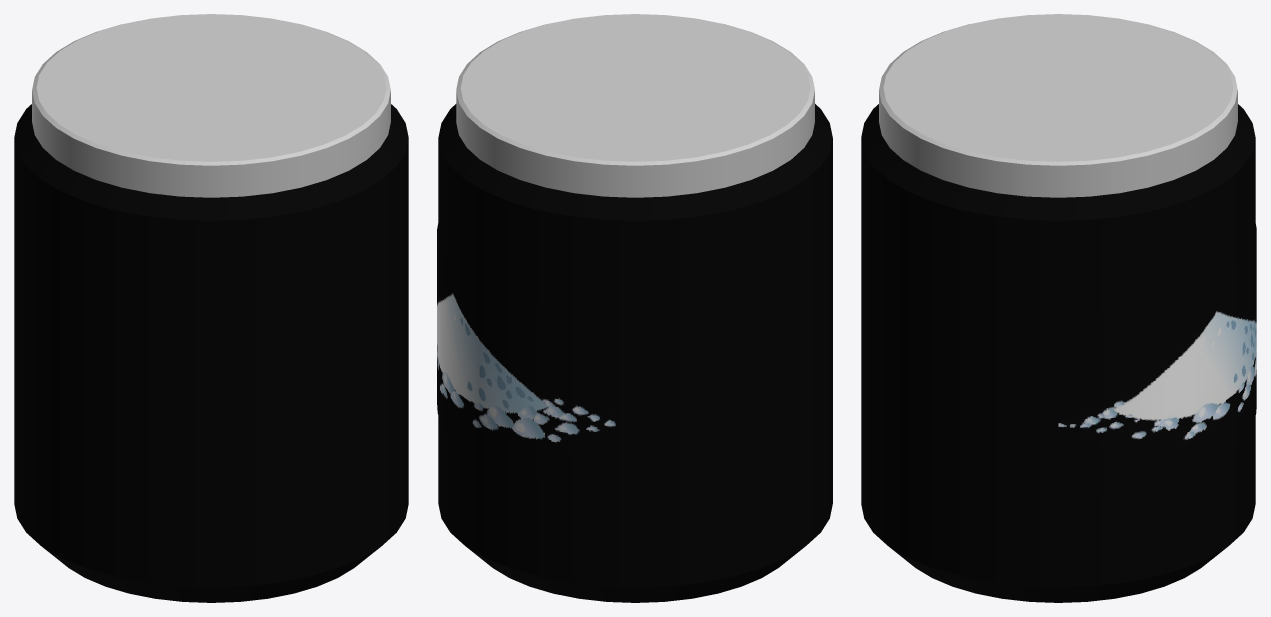
Rendered from yeast.obj.
The picture shows the model from 3 angles, left to right: view 1: azimuth 30°, elevation 25°; view 2: azimuth 150°, elevation 25°; view 3: azimuth 270°, elevation 25°; orthographic projection.
Visible parts, largest first — view 1: Pot, Dop; view 2: Pot, Dop, Plane; view 3: Pot, Dop, Plane.
Part boxes in pixels (x1=…): Pot: x1=14, y1=104, x2=408, y2=602; Dop: x1=32, y1=14, x2=390, y2=197; Pot: x1=438, y1=104, x2=832, y2=602; Dop: x1=456, y1=14, x2=814, y2=197; Plane: x1=437, y1=223, x2=615, y2=490; Pot: x1=861, y1=104, x2=1255, y2=602; Dop: x1=879, y1=14, x2=1237, y2=197; Plane: x1=1058, y1=224, x2=1256, y2=490.
Bounding box in the file's own units: 100 × 125 × 100.
